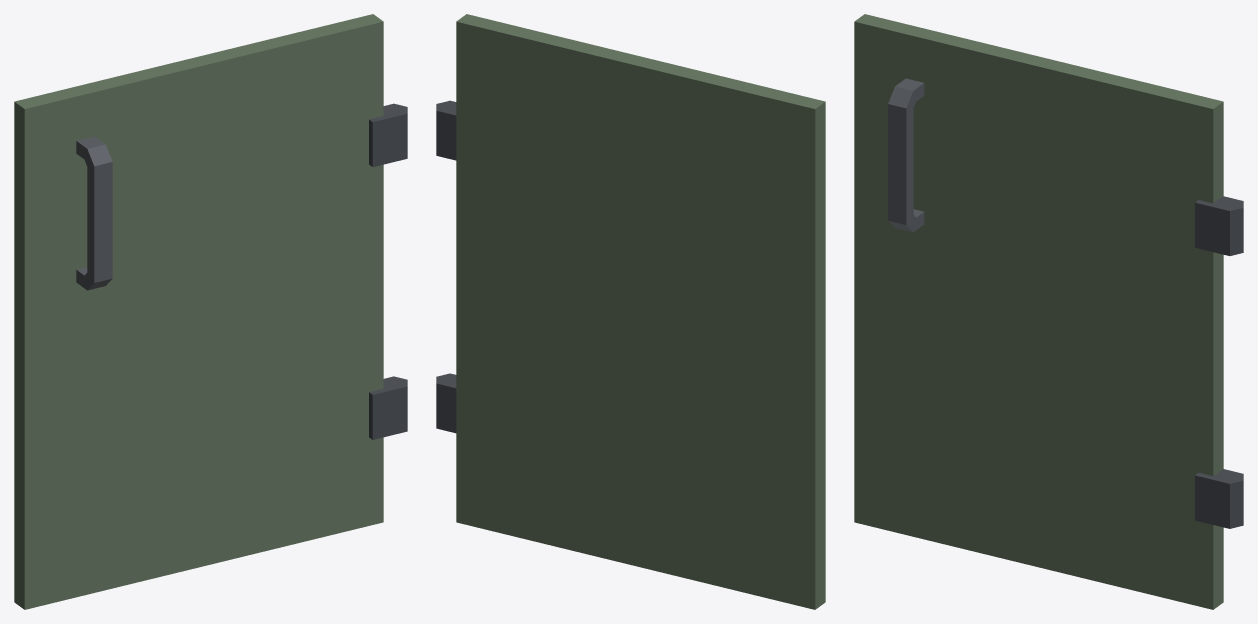
File: SM_Prop_WorkBench_02_BigDrawer_r.fbx
3 renders of one model, left to right at view 1: azimuth 30°, elevation 25°; view 2: azimuth 150°, elevation 25°; view 3: azimuth 330°, elevation 25°, orthographic.
Visible parts, largest first — view 1: SM_Prop_WorkBench_02_BigDrawer_r; view 2: SM_Prop_WorkBench_02_BigDrawer_r; view 3: SM_Prop_WorkBench_02_BigDrawer_r.
Boxes of the visible parts, x1,y1,x2,y2 form: SM_Prop_WorkBench_02_BigDrawer_r: (14,14,407,609); SM_Prop_WorkBench_02_BigDrawer_r: (436,14,825,609); SM_Prop_WorkBench_02_BigDrawer_r: (854,14,1243,609).
Bounding box in the file's own units: 66.38 × 82.27 × 8.43.
